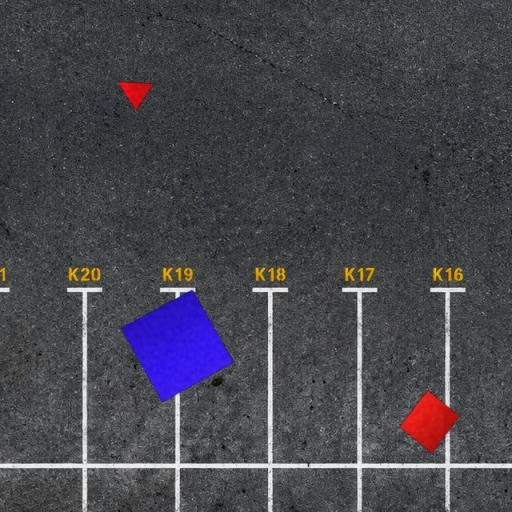BLUE_SQUARE: (120, 289, 234, 403)
RED_SQUARE: (399, 390, 461, 454)
